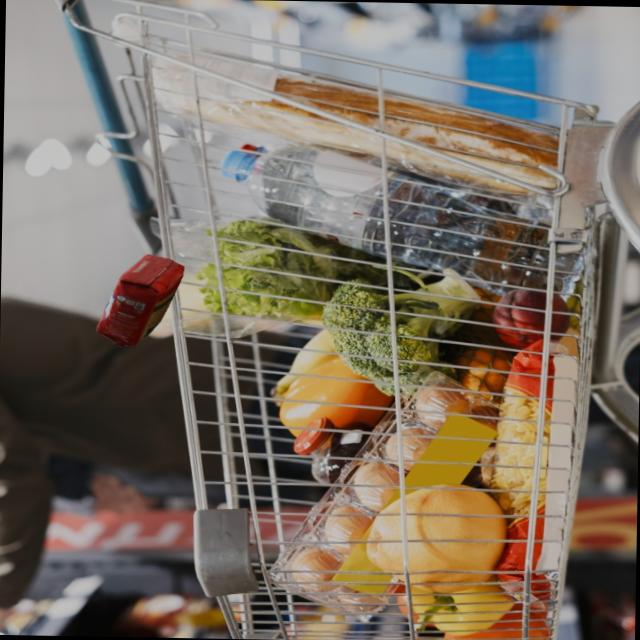mate bag: (96, 256, 182, 347)
